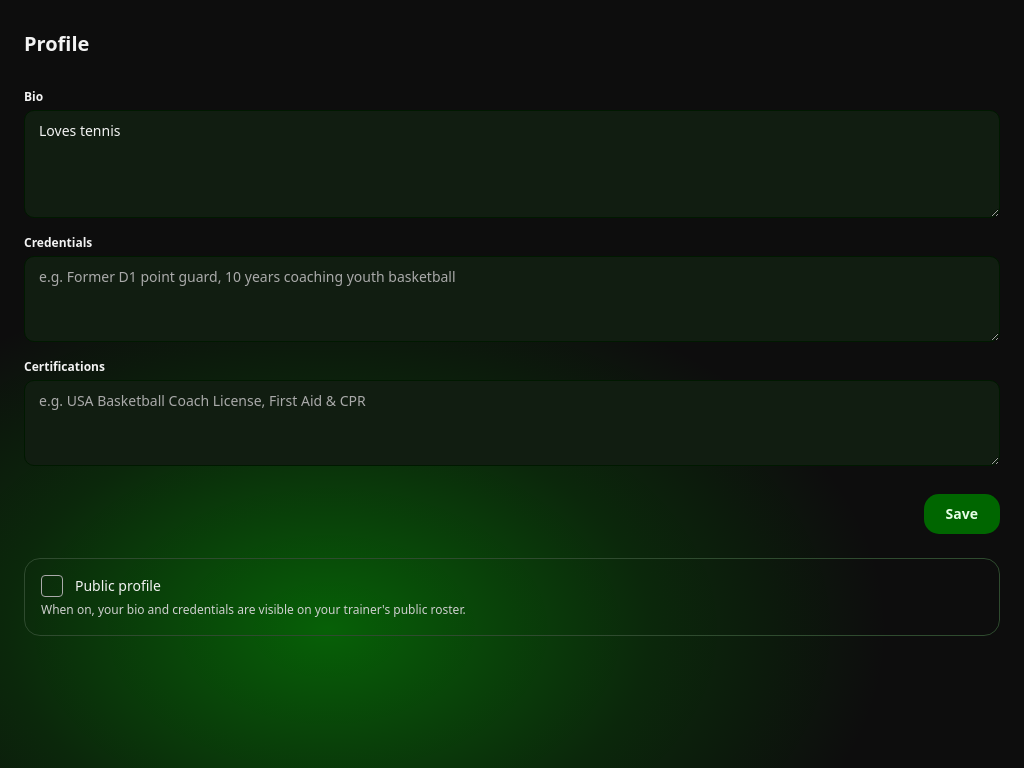
Test case: ProfilePage (coach) › saves edits via PATCH /coaches/:id and shows a success message
Step 1. Replace the text in the text box labelled "Bio" with "Updated bio" → (512, 164), box [24,110,1000,218]
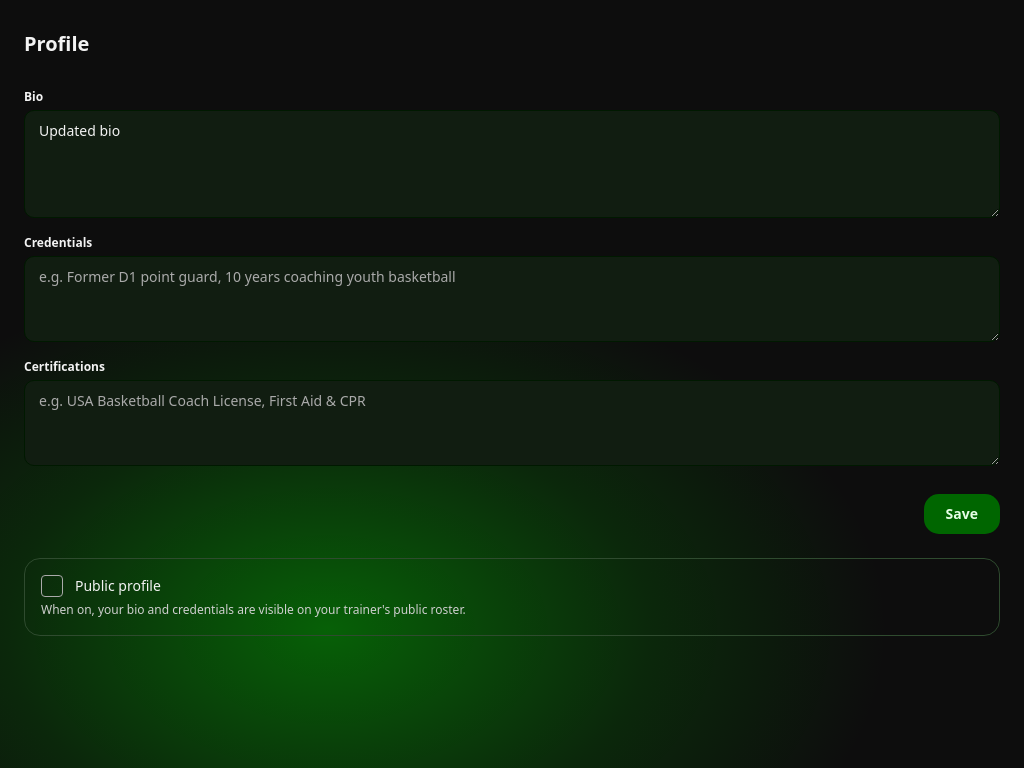
Step 2. Click the button "Save" → (962, 514), box [924,494,1000,534]
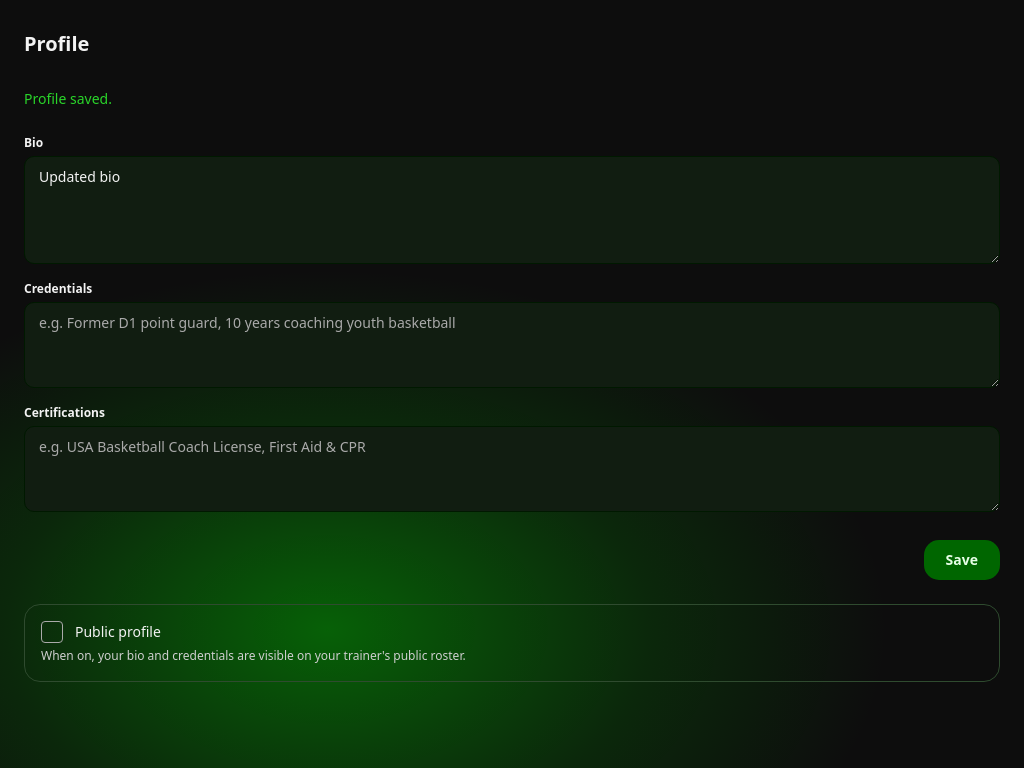
Expected: the message shows "saved", [24,89,112,108]
